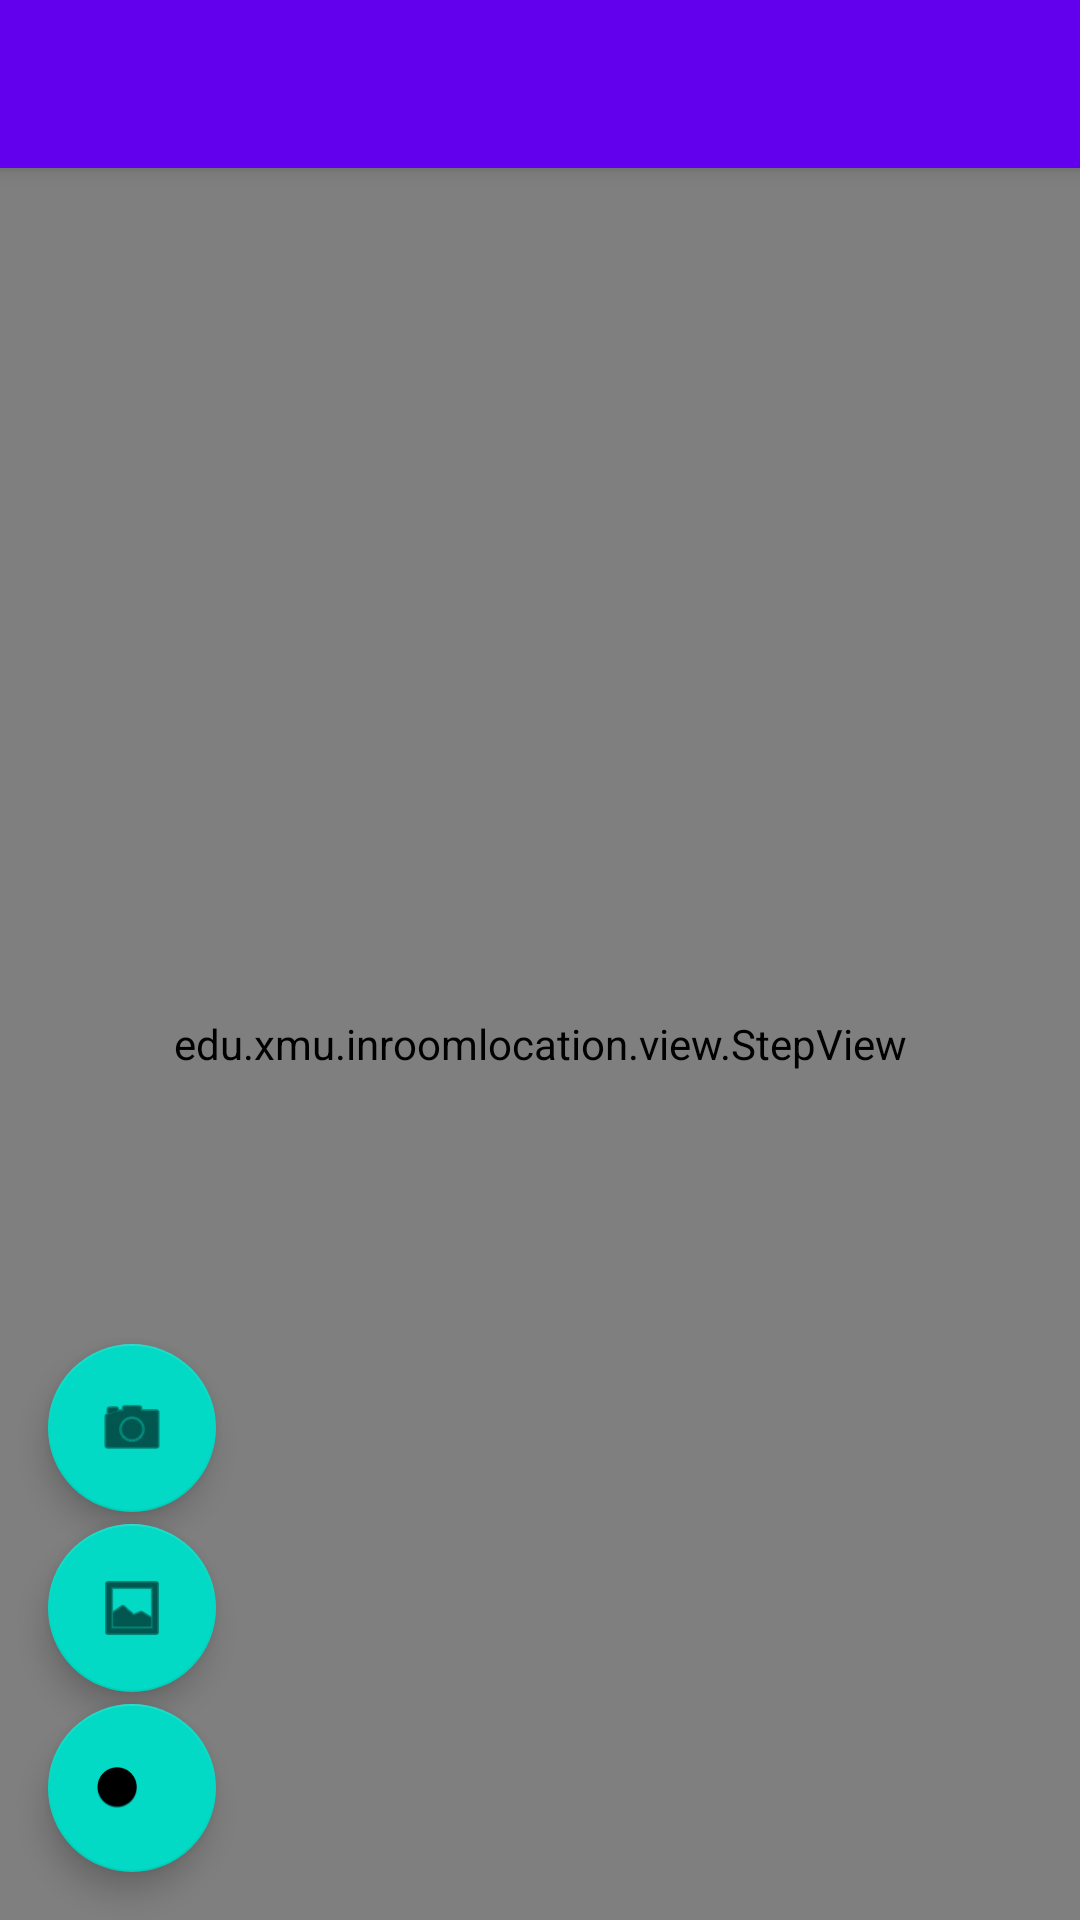

Where to tap for icons on this 1080 x 1920 app screen, as point (x, y):
camera: point (132, 1428)
gallery: point (132, 1608)
